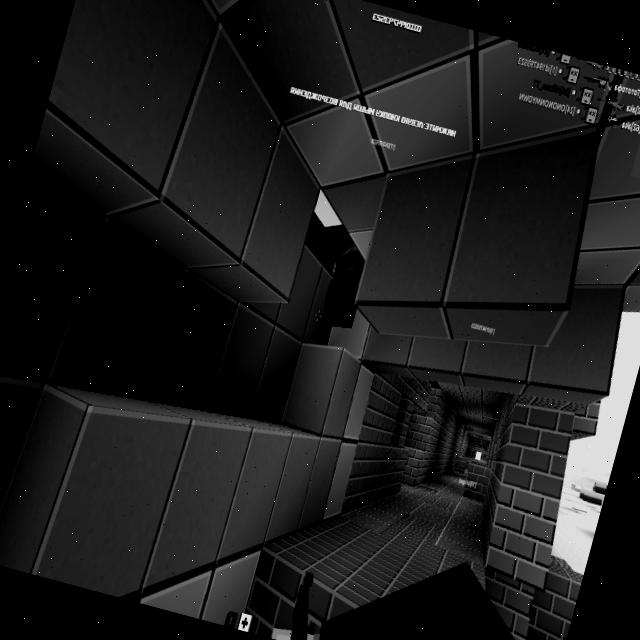Head: (266, 506, 581, 640), (339, 225, 368, 259)
Player: (318, 238, 372, 331)
